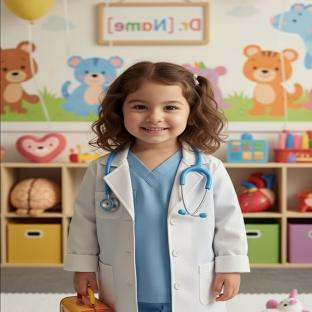Human: (64, 62, 250, 312)
